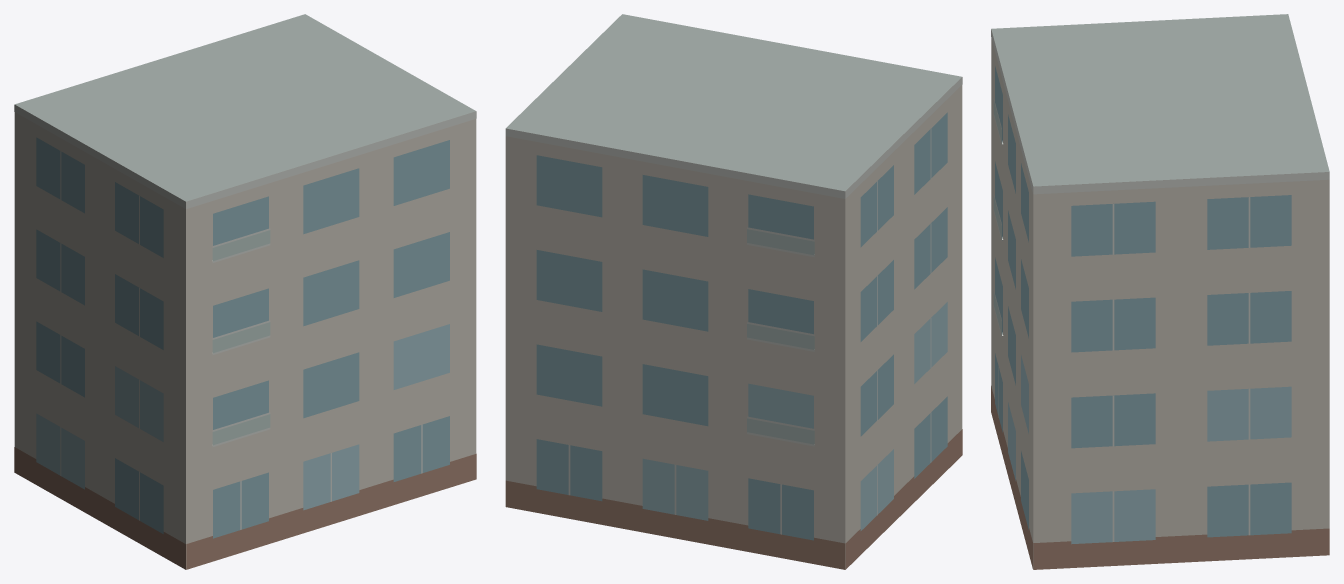
Rendered from survey-upis-32993535.glb.
The picture shows the model from 3 angles, left to right: view 1: azimuth 30°, elevation 25°; view 2: azimuth 150°, elevation 25°; view 3: azimuth 270°, elevation 25°; orthographic projection. The views are drawn at different scales.
Parts seen in each view (by area): view 1: survey-upis-32993535.tmp; view 2: survey-upis-32993535.tmp; view 3: survey-upis-32993535.tmp.
Boxes of the visible parts, x1,y1,x2,y2 form: survey-upis-32993535.tmp: (14, 14, 476, 569); survey-upis-32993535.tmp: (505, 14, 962, 569); survey-upis-32993535.tmp: (991, 14, 1329, 569).
Size of the model in its own units: 11.56 by 11.97 by 9.59.
